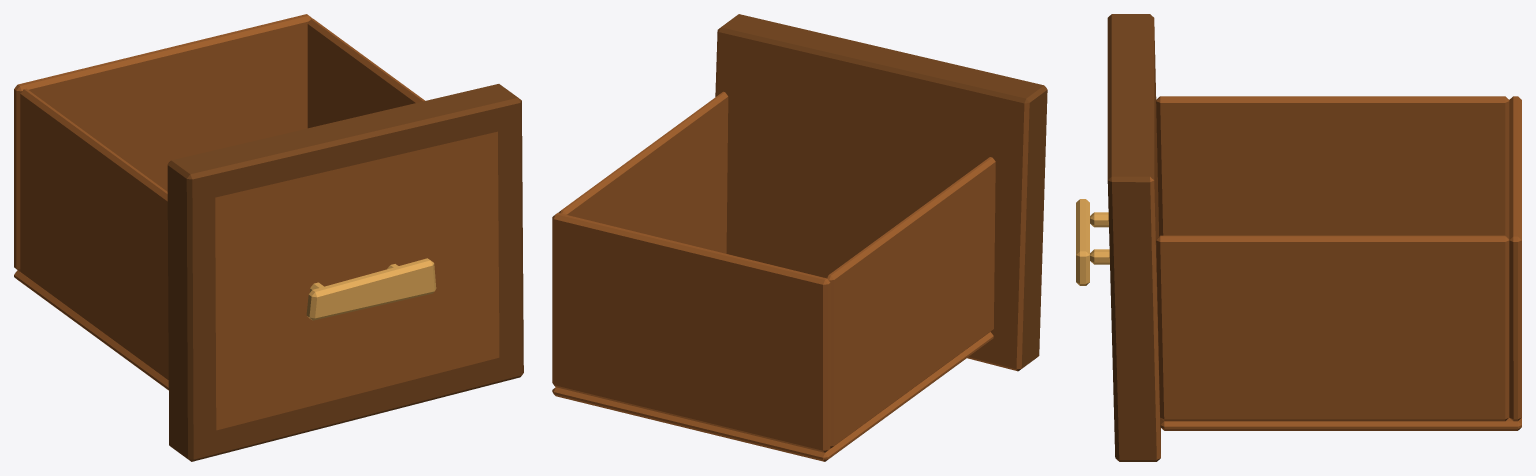
The model's file is Rack_1.fbx.
3 renders of one model, left to right at view 1: azimuth 30°, elevation 25°; view 2: azimuth 150°, elevation 25°; view 3: azimuth 270°, elevation 25°, orthographic. The views are drawn at different scales.
Parts seen in each view (by area): view 1: Rack_1; view 2: Rack_1; view 3: Rack_1.
Boxes of the visible parts, x1,y1,x2,y2 form: Rack_1: (14,14,523,461); Rack_1: (552,14,1047,461); Rack_1: (1076,14,1521,461).
Size of the model in its own units: 0.4045 by 0.331 by 0.4606.
